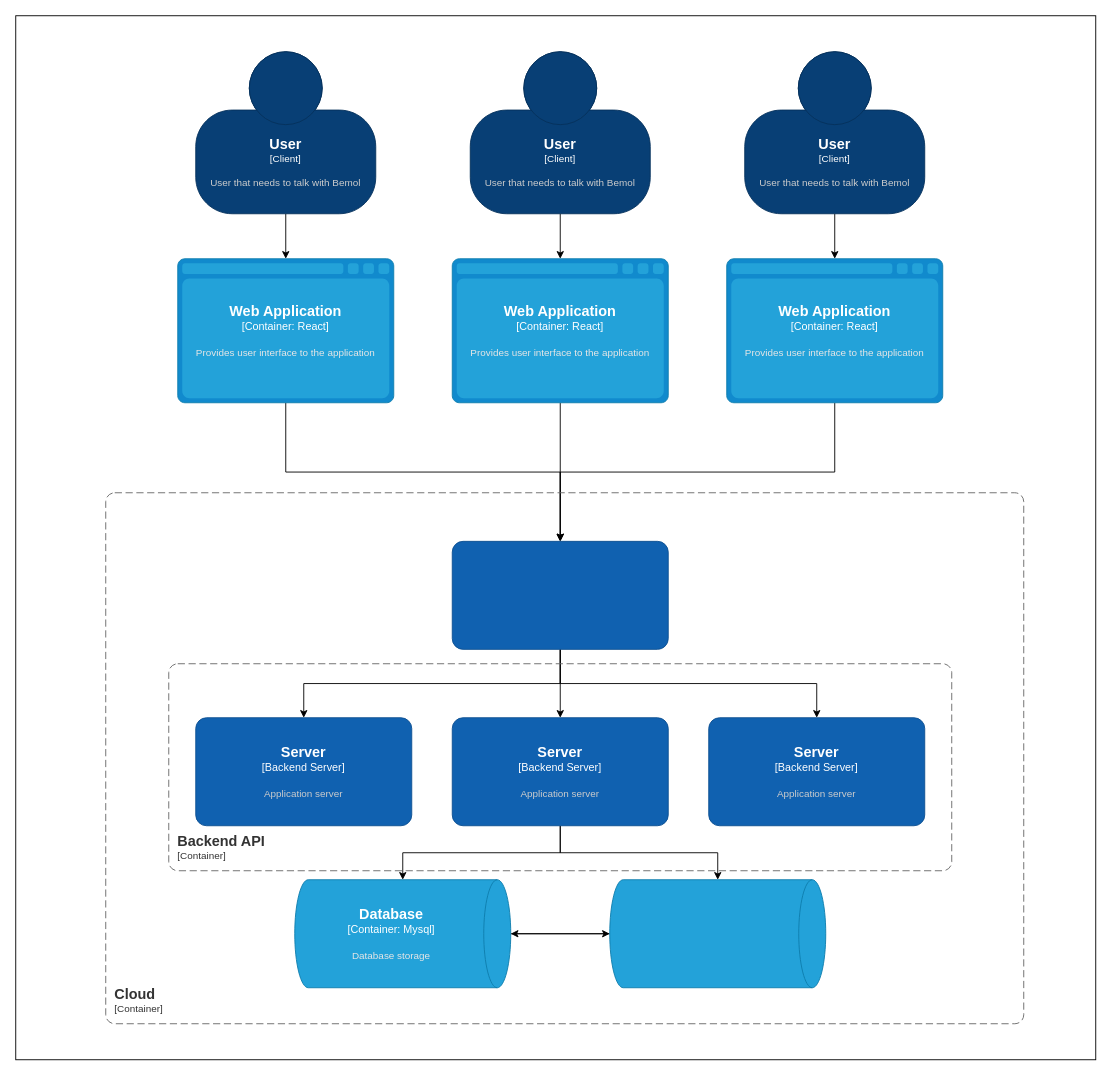
The diagram is 1112 pixels wide and 1076 high, and some of its shapes have lost their labels. Each missing label, with the centre of its shape:
"Database Replica [Container: Mysql] Database storage" goes at [717,933].
"Load Balancer [Infrastructure] Balance of load requests" goes at [559,594].
